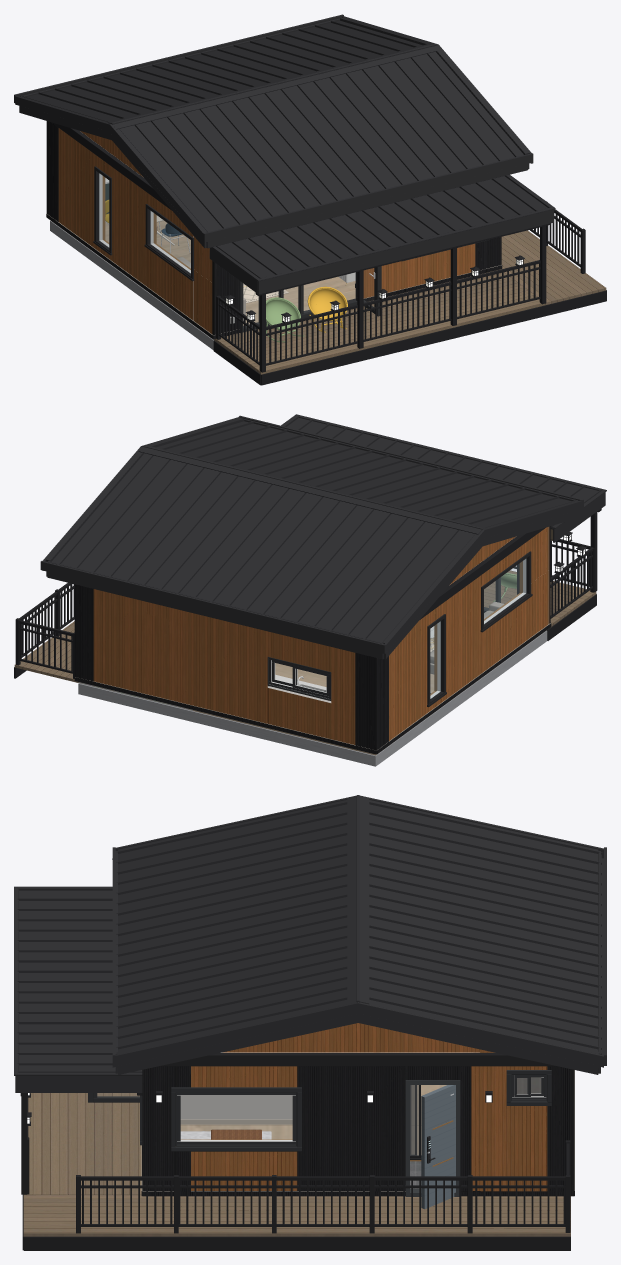
File: seum-15.glb
The picture shows the model from 3 angles, top to bottom: view 1: azimuth 30°, elevation 25°; view 2: azimuth 150°, elevation 25°; view 3: azimuth 270°, elevation 25°; orthographic projection. The views are drawn at different scales.
Parts seen in each view (by area): view 1: 지붕_Roof_DarkGray, 지붕_Metal_Flashing, Metal_Black, Ext_Wood, Deck_Porch, Ext_Black, Deck_Composite, Floor_Oak, Concrete_Slab, 지붕_Metal_Black, Material_14, Material_17 (+7 smaller); view 2: 지붕_Roof_DarkGray, Ext_Wood, 지붕_Metal_Flashing, Ext_Black, Metal_Black, Concrete_Slab, Material_14, Deck_Composite, 지붕_Metal_Black, Deck_Porch, I_FrameDarkGray, Floor_Oak (+6 smaller); view 3: 지붕_Roof_DarkGray, 지붕_Metal_Flashing, Ext_Black, Metal_Black, Deck_Composite, Ext_Wood, Deck_Porch, I_FrameDarkGray, 지붕_Metal_Black, 지붕_Ext_Wood, Material_28, Material_7 (+4 smaller).
Boxes of the visible parts, <box> form: 지붕_Roof_DarkGray: <box>22,18,550,278</box>; 지붕_Metal_Flashing: <box>14,14,555,294</box>; Metal_Black: <box>213,201,606,385</box>; Ext_Wood: <box>58,128,475,333</box>; Deck_Porch: <box>214,269,545,374</box>; Ext_Black: <box>46,121,502,339</box>; Deck_Composite: <box>500,230,606,305</box>; Floor_Oak: <box>105,220,355,339</box>; Concrete_Slab: <box>50,220,213,350</box>; 지붕_Metal_Black: <box>51,122,550,295</box>; Material_14: <box>150,211,190,272</box>; Material_17: <box>239,266,381,332</box>; 지붕_Roof_DarkGray: <box>49,415,601,642</box>; Ext_Wood: <box>93,527,549,744</box>; 지붕_Metal_Flashing: <box>40,414,606,659</box>; Ext_Black: <box>74,526,551,754</box>; Metal_Black: <box>14,512,597,678</box>; Concrete_Slab: <box>78,630,547,766</box>; Material_14: <box>484,559,526,623</box>; Deck_Composite: <box>14,621,78,682</box>; 지붕_Metal_Black: <box>420,508,601,619</box>; Deck_Porch: <box>484,570,596,626</box>; I_FrameDarkGray: <box>267,657,331,700</box>; Floor_Oak: <box>193,630,546,755</box>; 지붕_Roof_DarkGray: <box>17,801,602,1072</box>; 지붕_Metal_Flashing: <box>14,795,606,1092</box>; Ext_Black: <box>141,1066,574,1196</box>; Metal_Black: <box>21,1091,570,1250</box>; Deck_Composite: <box>23,1194,570,1236</box>; Ext_Wood: <box>191,1066,547,1191</box>; Deck_Porch: <box>24,1093,141,1194</box>; I_FrameDarkGray: <box>140,1070,551,1151</box>; 지붕_Metal_Black: <box>20,1053,556,1096</box>; 지붕_Ext_Wood: <box>222,1023,493,1052</box>; Material_28: <box>421,1085,455,1209</box>; Material_7: <box>180,1052,479,1119</box>.
Bounding box in the file's own units: 9.07 × 4.06 × 9.75.
148 materials, 37 textured.
